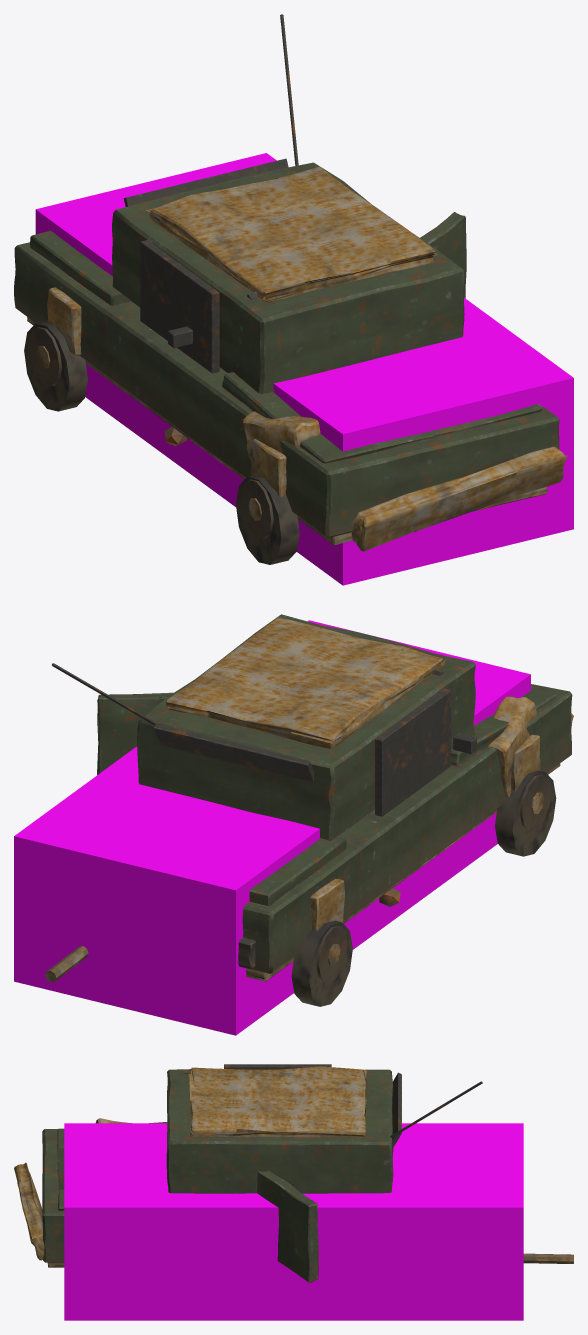
File: prop_car_wreck_01.glb
The picture shows the model from 3 angles, top to bottom: view 1: azimuth 30°, elevation 25°; view 2: azimuth 150°, elevation 25°; view 3: azimuth 270°, elevation 25°; orthographic projection. The views are drawn at different scales.
Visible parts, largest first — view 1: Car, prop_car_wreck_01-col; view 2: Car, prop_car_wreck_01-col; view 3: prop_car_wreck_01-col, Car.
Boxes of the visible parts, left/top/right/bottom form: Car: left=14, top=14, right=567, bottom=564; prop_car_wreck_01-col: left=35, top=153, right=573, bottom=585; Car: left=45, top=614, right=573, bottom=1006; prop_car_wreck_01-col: left=14, top=620, right=530, bottom=1035; prop_car_wreck_01-col: left=64, top=1123, right=523, bottom=1320; Car: left=14, top=1064, right=573, bottom=1282.
Size of the model in its own units: 2.62 by 2.28 by 4.94.
2 materials, 1 textured.
